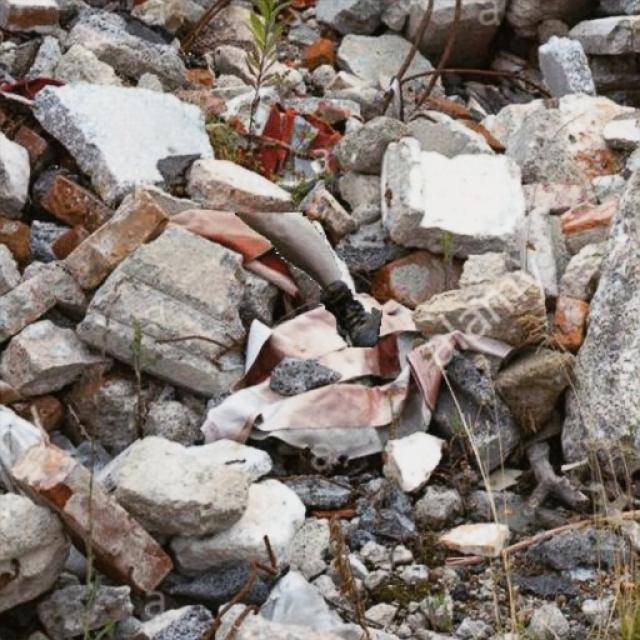Person in Rubble: (235, 212, 381, 346)
